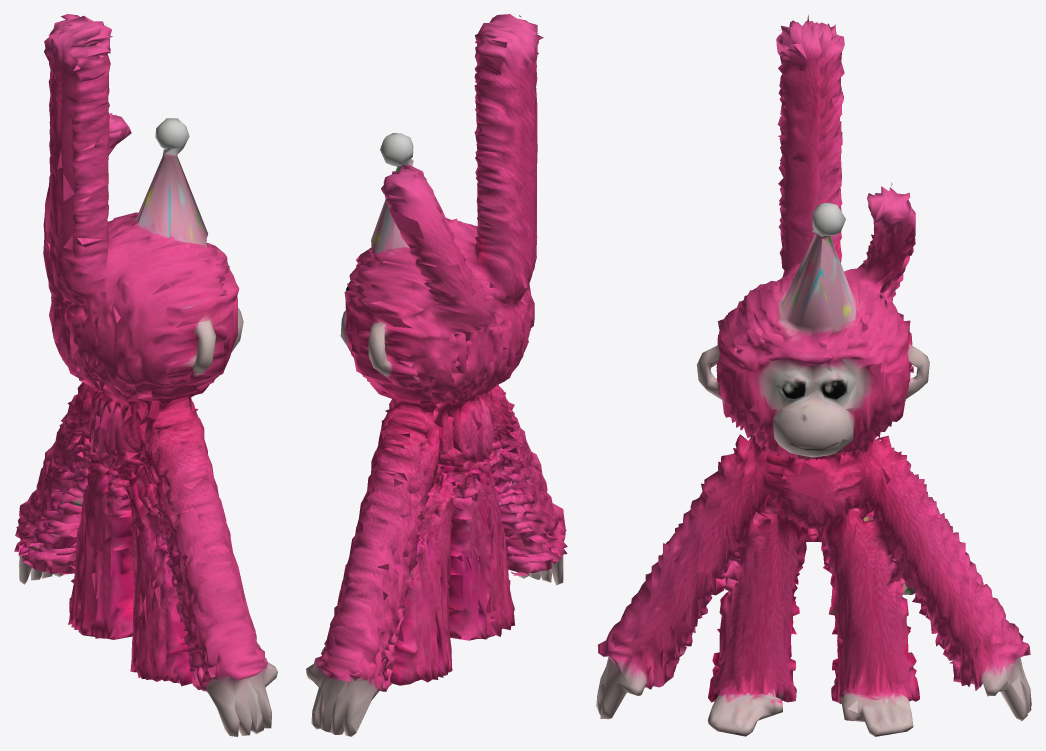
The model's file is monito.obj.
The picture shows the model from 3 angles, left to right: view 1: azimuth 30°, elevation 25°; view 2: azimuth 150°, elevation 25°; view 3: azimuth 270°, elevation 25°; orthographic projection.
Parts seen in each view (by area): view 1: tripo_node_b3f1f72e-f6e3-489c-a87d-2f0ee6a30262; view 2: tripo_node_b3f1f72e-f6e3-489c-a87d-2f0ee6a30262; view 3: tripo_node_b3f1f72e-f6e3-489c-a87d-2f0ee6a30262.
Boxes of the visible parts, bbox=[...] form: tripo_node_b3f1f72e-f6e3-489c-a87d-2f0ee6a30262: bbox=[14, 14, 277, 736]; tripo_node_b3f1f72e-f6e3-489c-a87d-2f0ee6a30262: bbox=[306, 14, 567, 736]; tripo_node_b3f1f72e-f6e3-489c-a87d-2f0ee6a30262: bbox=[596, 15, 1031, 736].
Bounding box in the file's own units: 0.3057 × 1 × 0.6017.
1 material, 1 textured.
